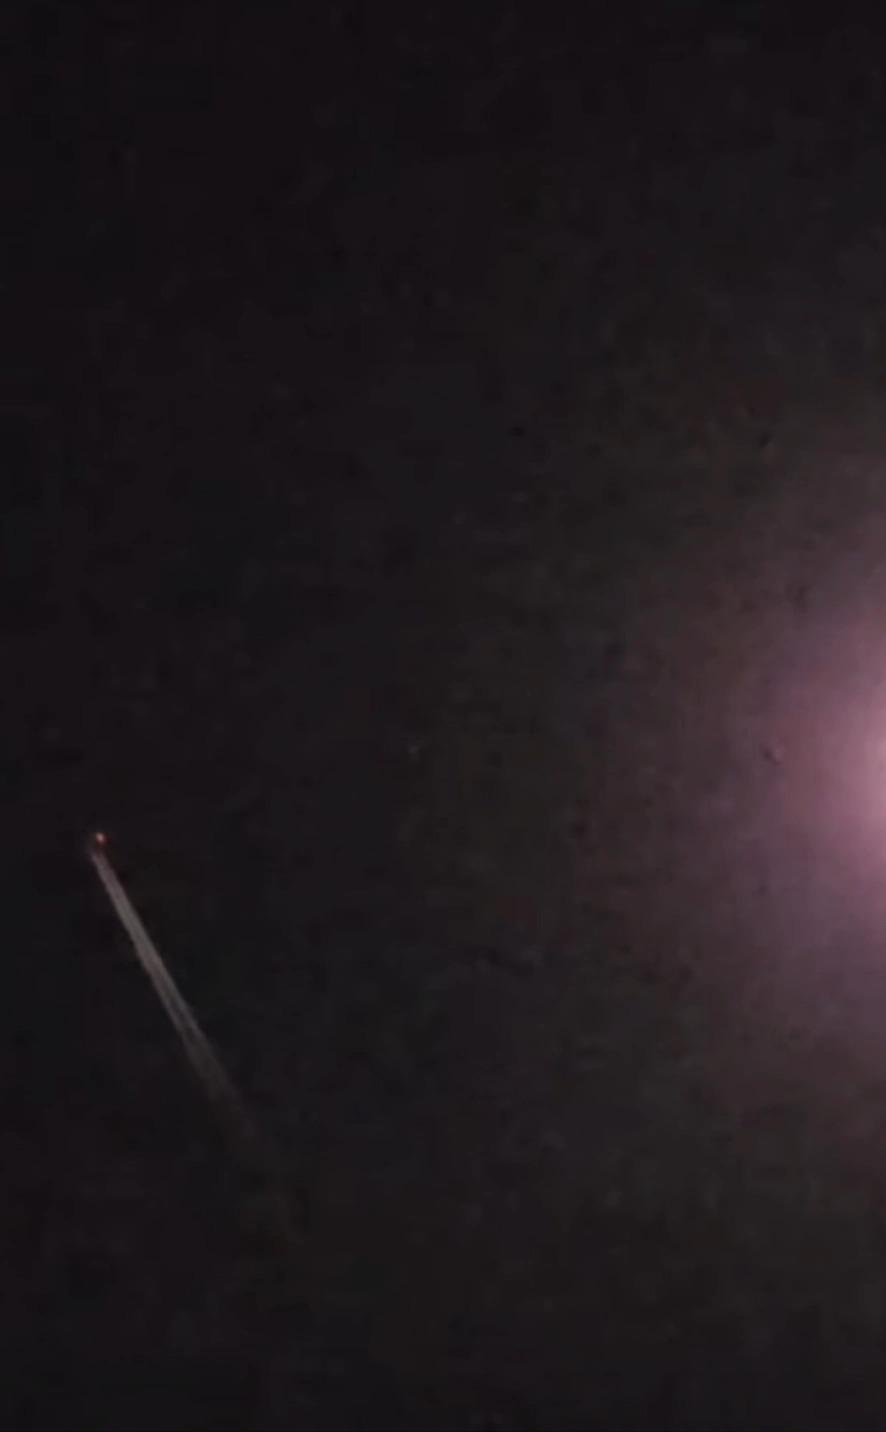Plane: (42, 802, 228, 1051)
